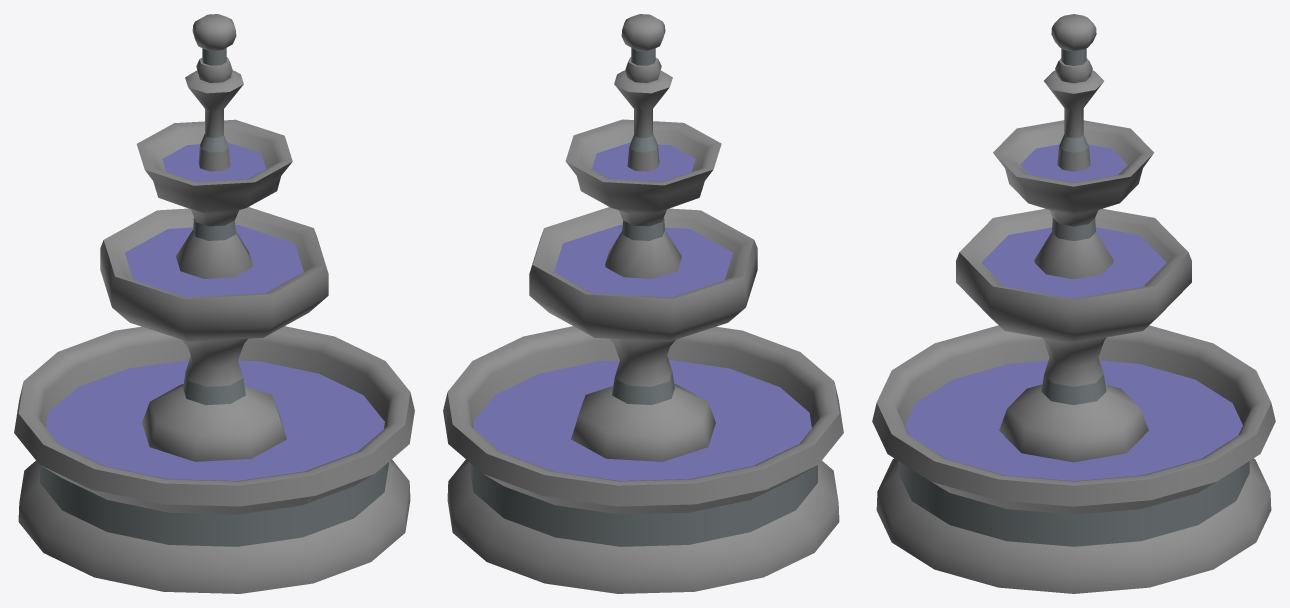
3 views of the same model, side by side, from view 1: azimuth 30°, elevation 25°; view 2: azimuth 150°, elevation 25°; view 3: azimuth 270°, elevation 25° (orthographic).
Parts seen in each view (by area): view 1: Cube.002; view 2: Cube.002; view 3: Cube.002.
Boxes of the visible parts, x1,y1,x2,y2 form: Cube.002: [14, 14, 414, 593]; Cube.002: [443, 14, 843, 593]; Cube.002: [872, 14, 1275, 593].
Size of the model in its own units: 4.31 by 5.79 by 4.31.
